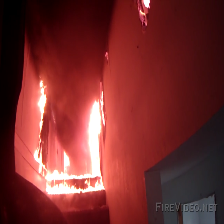fire_h: (88, 87, 106, 178), (43, 150, 90, 179), (34, 80, 46, 174), (45, 180, 105, 196)
fire_l: (139, 1, 151, 24), (104, 52, 110, 60)
